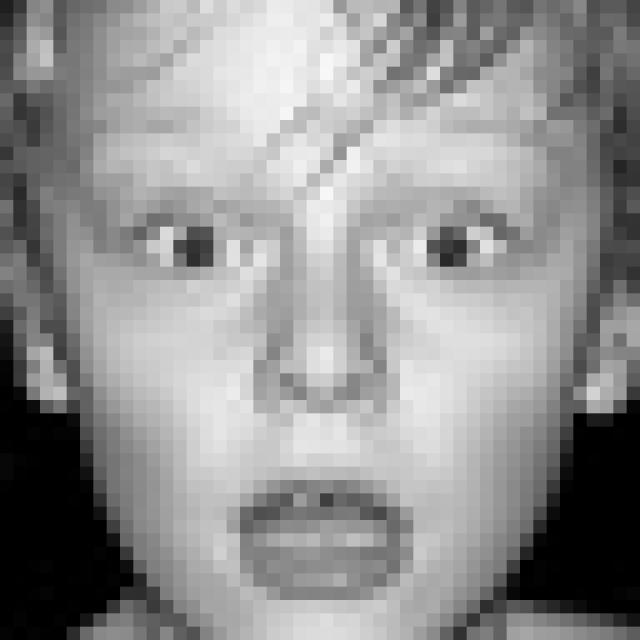surprise: (88, 172, 550, 607)
